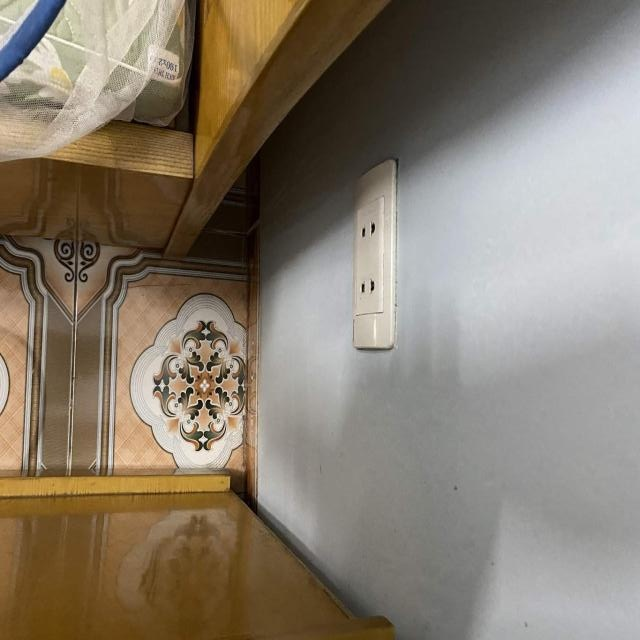outlet: (352, 158, 398, 350)
